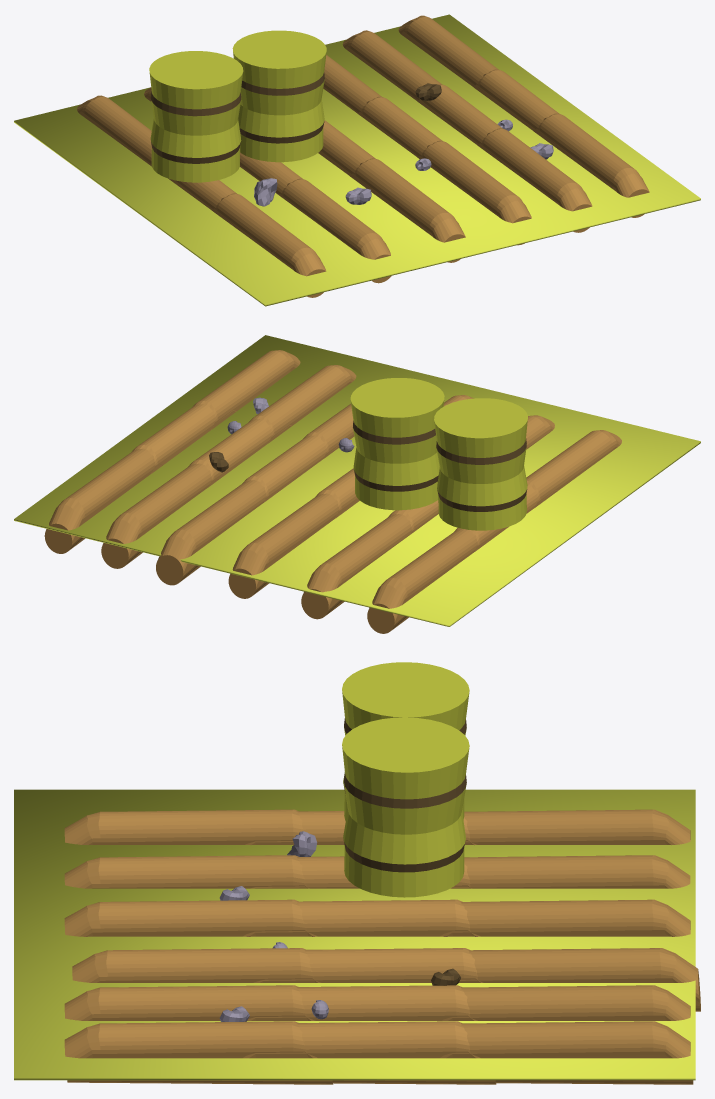
The model's file is all.fbx.
3 views of the same model, one above another, from view 1: azimuth 30°, elevation 25°; view 2: azimuth 150°, elevation 25°; view 3: azimuth 270°, elevation 25° (orthographic). The views are drawn at different scales.
Parts seen in each view (by area): view 1: Plane; view 2: Plane; view 3: Plane.
Part boxes in pixels (box(x1,y1,x2,y2)): Plane: box(14, 14, 700, 306); Plane: box(14, 335, 700, 633); Plane: box(14, 662, 700, 1084).
Bounding box in the file's own units: 994 × 302 × 1002.
